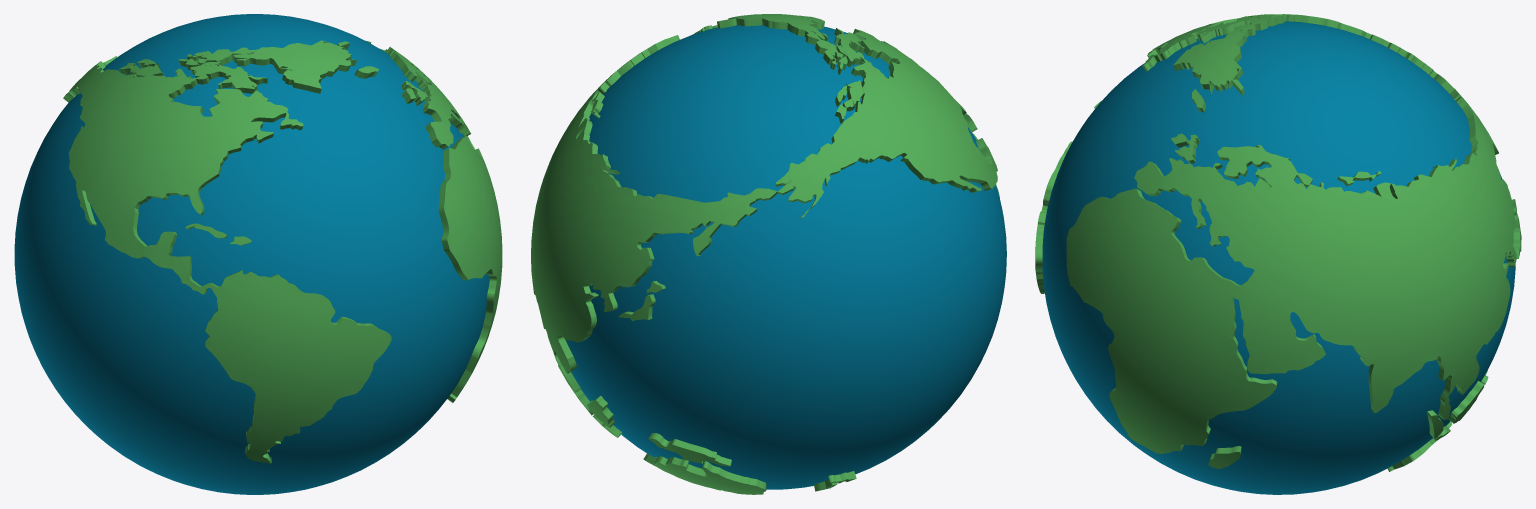
Rendered from earth.glb.
3 views of the same model, side by side, from view 1: azimuth 30°, elevation 25°; view 2: azimuth 150°, elevation 25°; view 3: azimuth 270°, elevation 25° (orthographic). The views are drawn at different scales.
Parts seen in each view (by area): view 1: Esfera geodésica.001, Map.001; view 2: Esfera geodésica.001, Map.001; view 3: Map.001, Esfera geodésica.001.
Boxes of the visible parts, left/top/right/bottom form: Esfera geodésica.001: left=14, top=14, right=489, bottom=494; Map.001: left=63, top=40, right=502, bottom=463; Esfera geodésica.001: left=566, top=25, right=1006, bottom=489; Map.001: left=531, top=14, right=999, bottom=494; Map.001: left=1035, top=14, right=1521, bottom=471; Esfera geodésica.001: left=1042, top=21, right=1515, bottom=494.
Bounding box in the file's own units: 4.63 × 4.61 × 4.69.
